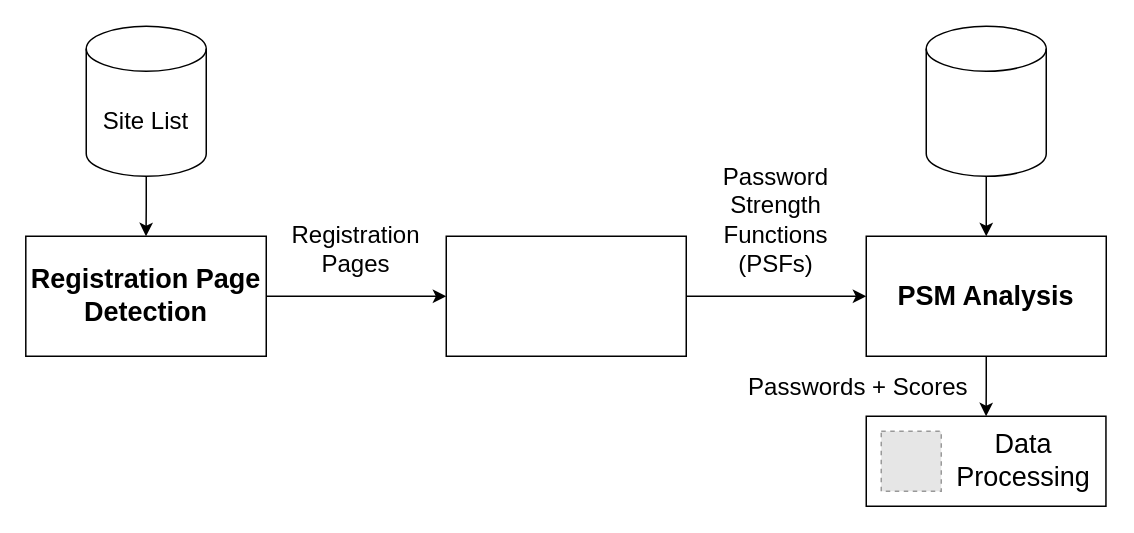
This 1134x533 diagram has some shape labels left out. Grey dashed boxes stand in for pictures. Each missing label, with the centre of its shape:
"Password Dataset" goes at point 985,100.
"PSM Detection" goes at point 565,295.
